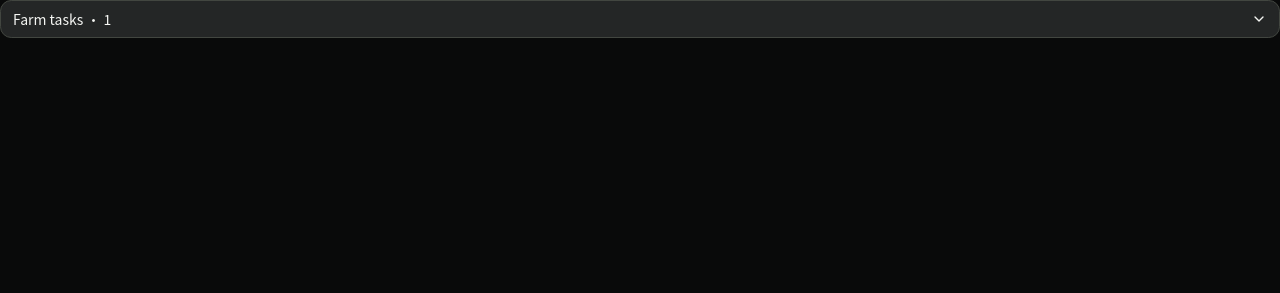
it: does not render an unsafe result URL
Click the heading "Farm tasks · 1".
click(48, 19)  # box 13,9 -> 1267,29
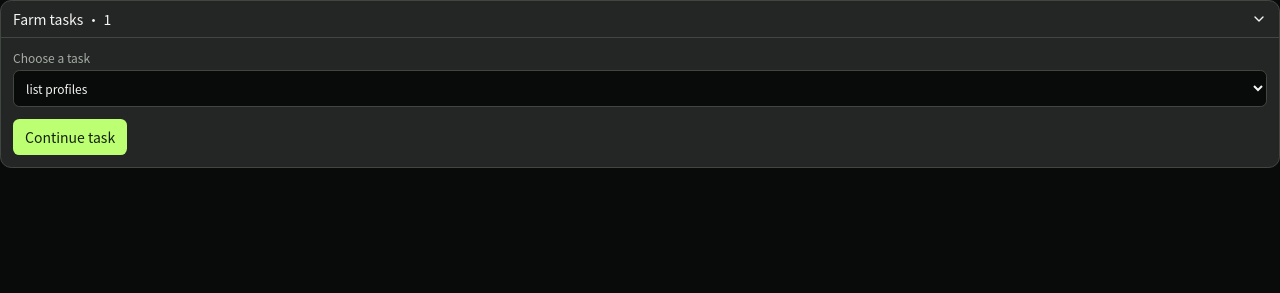
Click the button "Continue task".
click(70, 137)  # box 13,119 -> 127,155
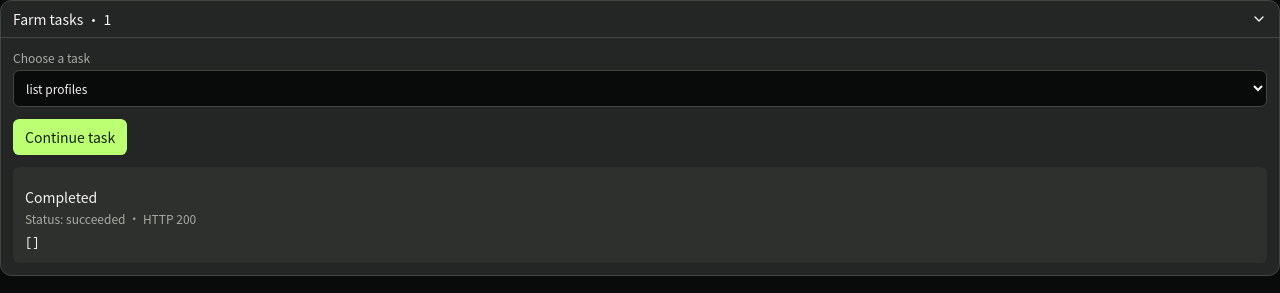
Now the text "Completed" is shown, box 25,187 -> 97,207
